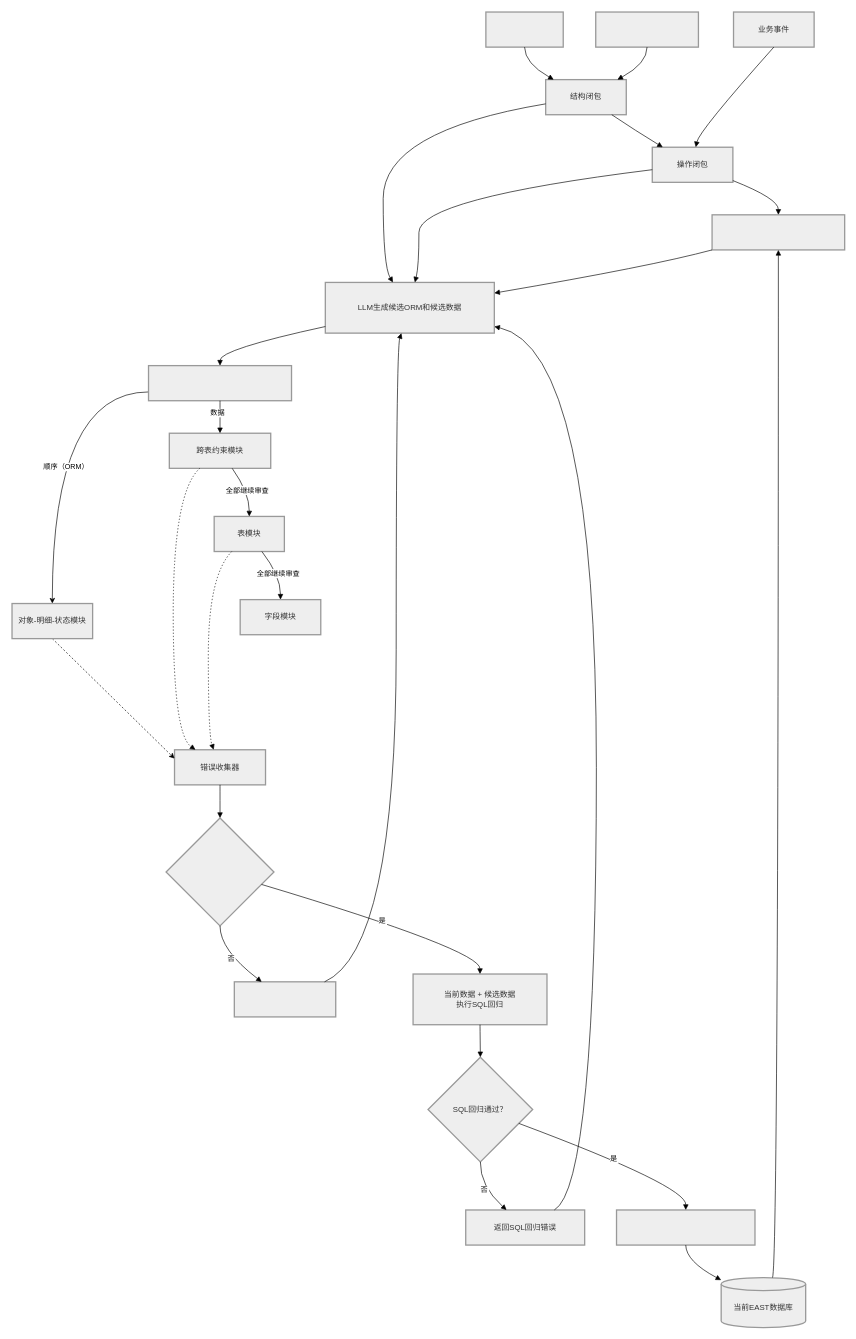
This 856x1339 diagram has some shape labels left out. Each missing label, with the box of its shape:
SQL种子: (595, 11, 699, 47)
候选数据暂存，不提交: (148, 365, 292, 401)
提交INSERT / UPDATE: (616, 1209, 755, 1245)
约束: (485, 11, 564, 47)
约束全部通过？: (165, 817, 274, 926)
读取所需对象和状态: (711, 214, 845, 250)
返回全部错误: (233, 981, 336, 1017)
